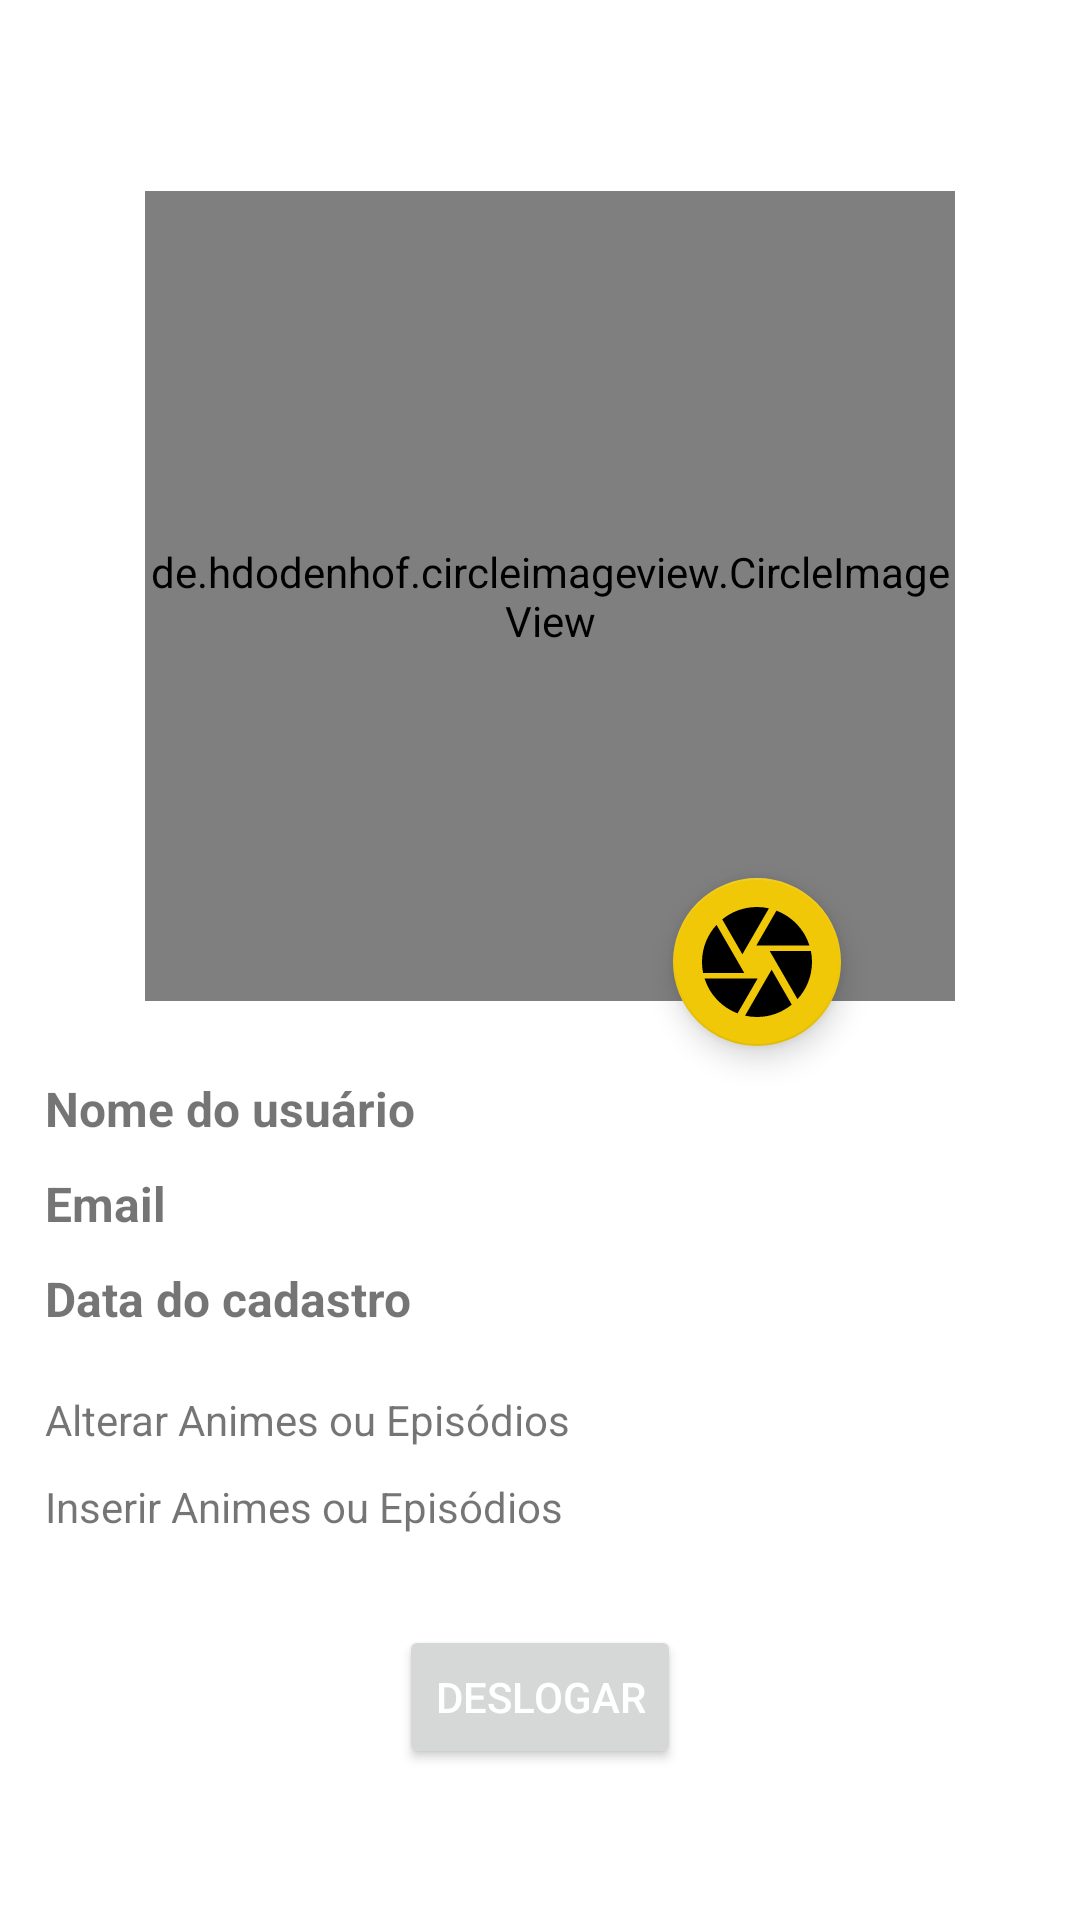

Where icons sit on this 1080 x 1920 app screen, as (x1, y1, x2, y2):
camera: (673, 878, 841, 1046)
